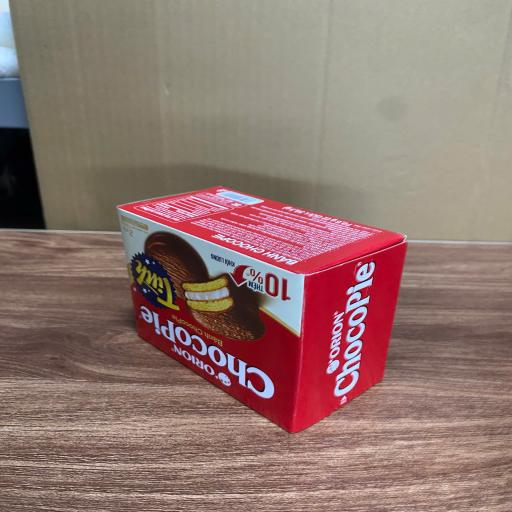chocopie: (119, 186, 406, 434)
